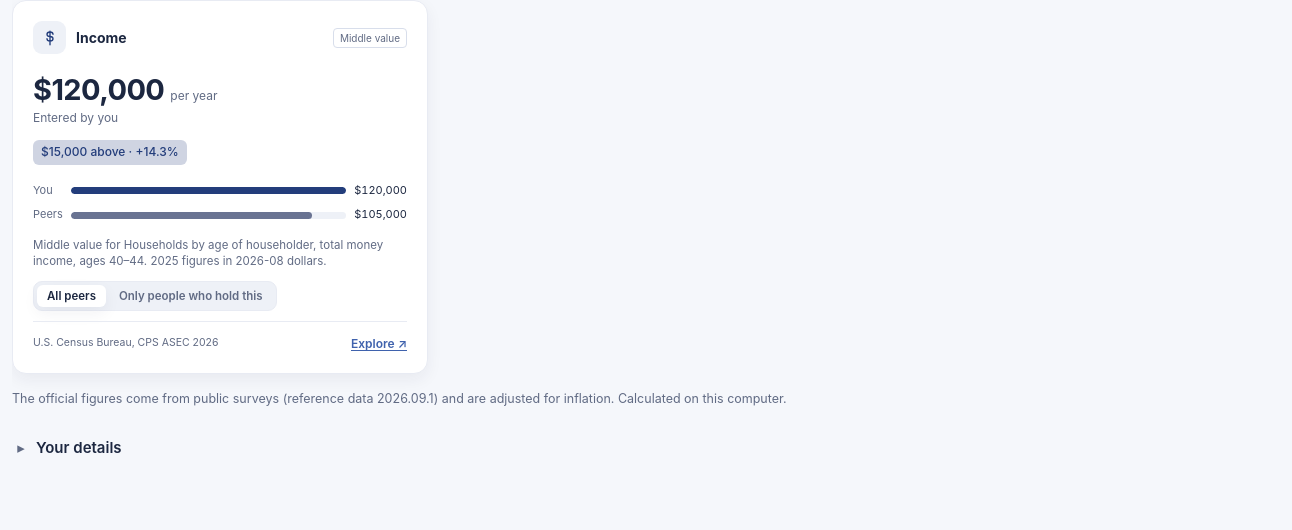
Test case: ComparisonsView › tells the person and refreshes when a save loses a race
This screenshot has width=1292, height=530.
Click the button "Only people who hold this".
click(191, 296)  # box left=109, top=285, right=273, bottom=307
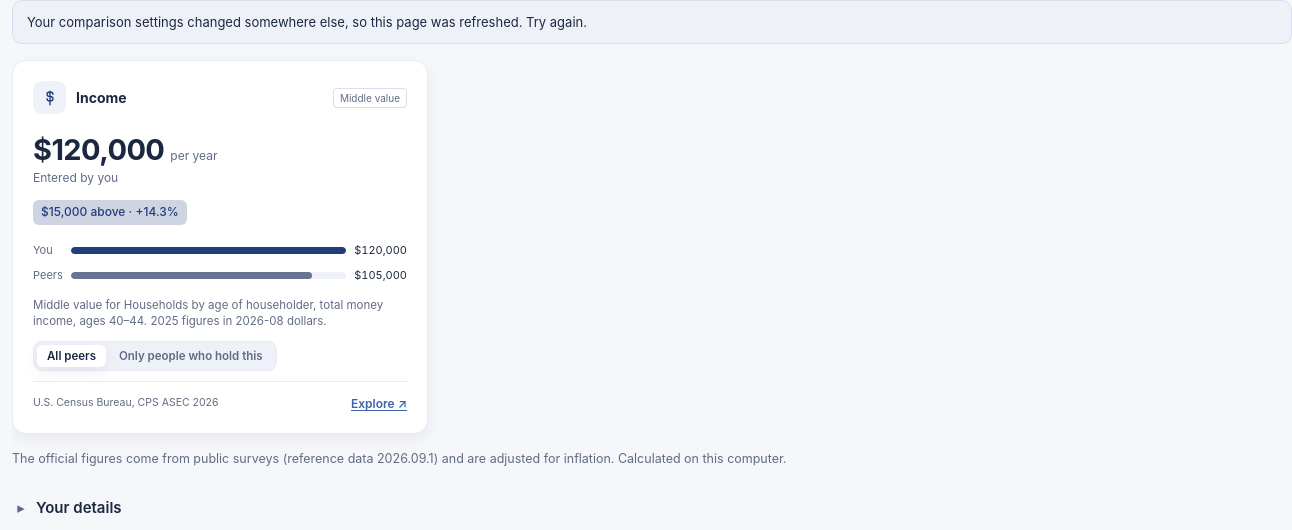
Now the text "changed somewhere else" is shown, box left=27, top=14, right=587, bottom=30
